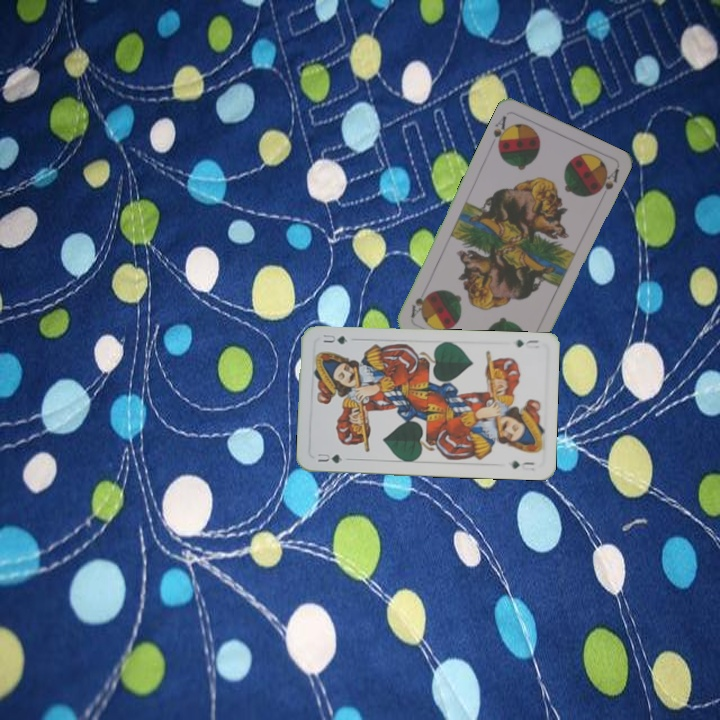GU: (312, 449, 345, 466), (513, 336, 541, 350)
SA: (489, 112, 513, 151)
